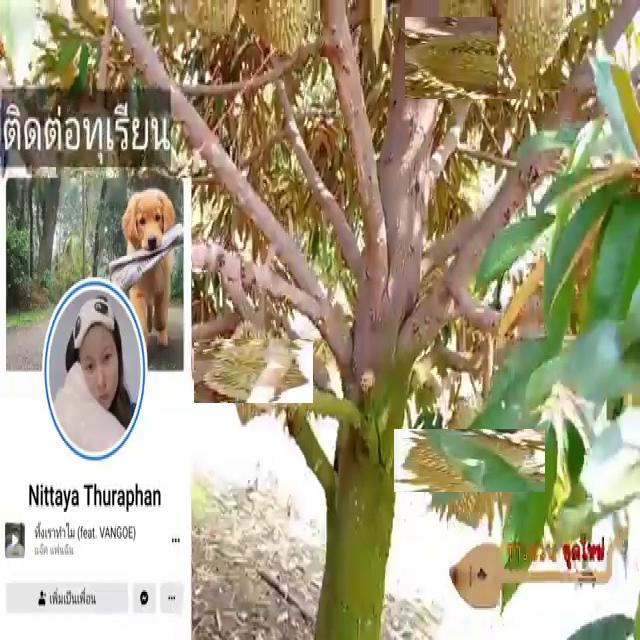durian: (416, 407, 523, 515), (413, 9, 512, 107), (208, 324, 299, 417), (497, 0, 576, 93), (232, 0, 315, 59)
